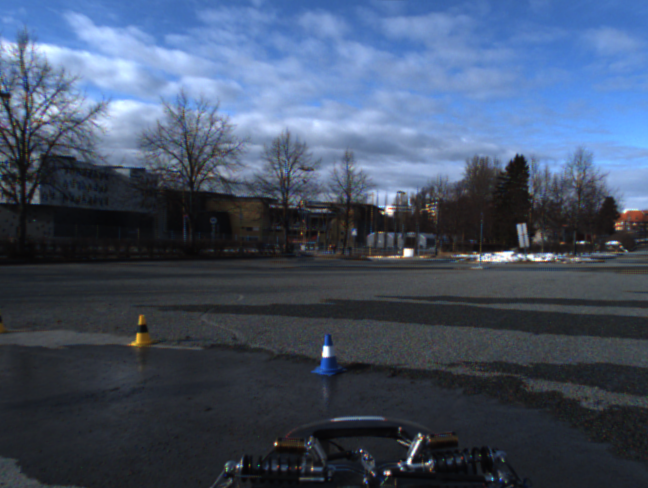cone-small-blue: (310, 334, 348, 376)
cone-small-yellow: (128, 314, 158, 347)
